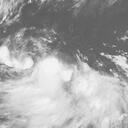cyclone: (25, 53, 83, 110)
